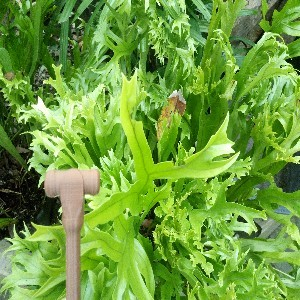palu: (45, 166, 101, 300)
